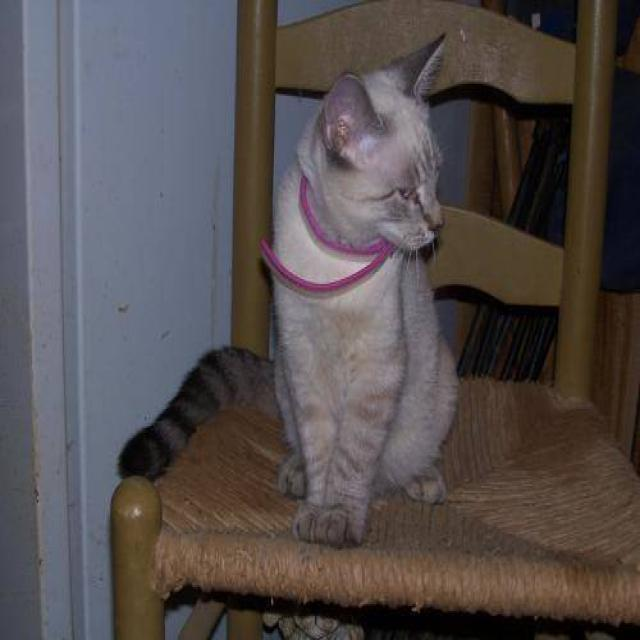Cat: (312, 34, 453, 270)
